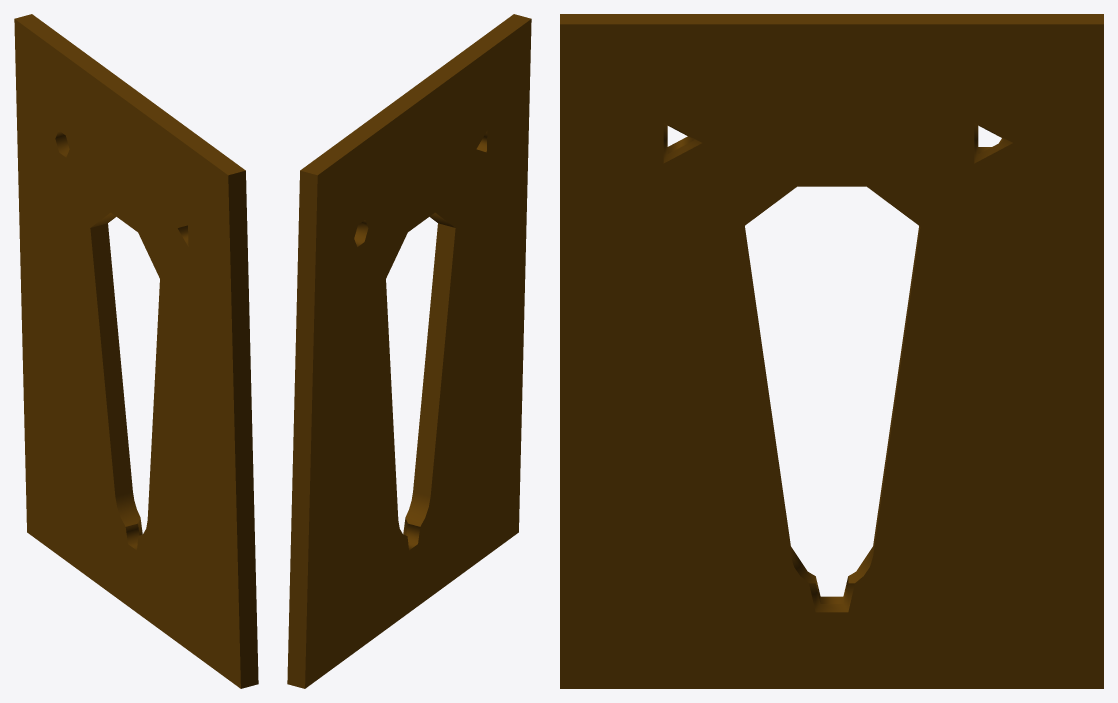
File: Suspension - PlaqueB_instance_1.obj
3 renders of one model, left to right at view 1: azimuth 30°, elevation 25°; view 2: azimuth 150°, elevation 25°; view 3: azimuth 270°, elevation 25°, orthographic. The views are drawn at different scales.
Parts seen in each view (by area): view 1: Face_7, Face_4, Face_9, Face_3, Face_1; view 2: Face_7, Face_2, Face_11, Face_3, Face_10; view 3: Face_6, Face_3.
Boxes of the visible parts, x1,y1,x2,y2 form: Face_7: (14, 19, 240, 688); Face_4: (228, 170, 258, 688); Face_9: (90, 223, 132, 496); Face_3: (14, 14, 245, 175); Face_1: (115, 492, 140, 526); Face_7: (305, 19, 531, 688); Face_2: (287, 170, 317, 688); Face_11: (413, 223, 455, 496); Face_3: (300, 14, 531, 175); Face_10: (405, 492, 430, 526); Face_6: (560, 24, 1103, 688); Face_3: (560, 14, 1103, 24).
Size of the model in its own units: 0.000859 by 0.014 by 0.0105.
